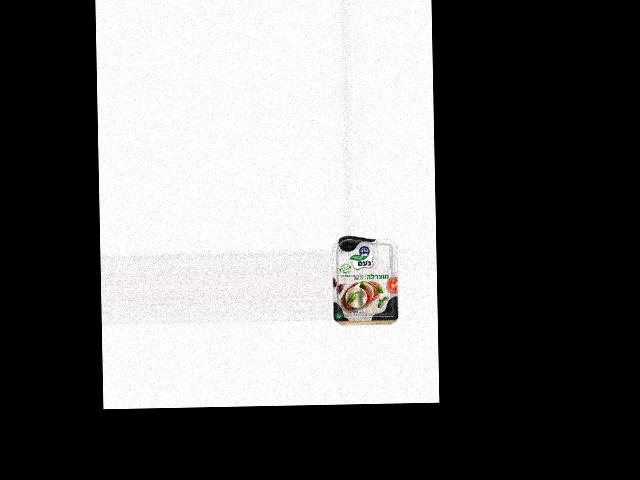cheese: (332, 236, 399, 322)
